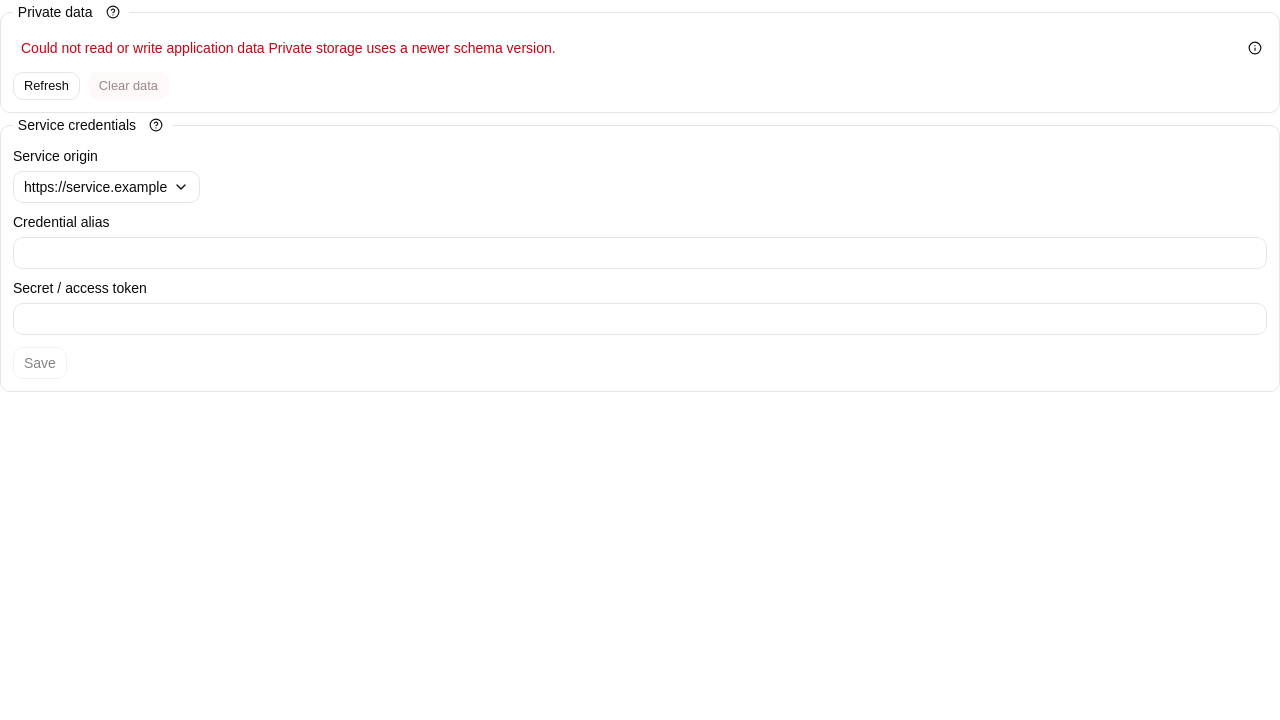
Test case: settles an initial storage failure and keeps refresh available without reporting endless loading
The image size is (1280, 720).
Expected: the message shows "Private storage uses a newer schema version.", [265,40,556,56]
Click the button named "View details" at (1255, 48), box [1243,36,1267,60]
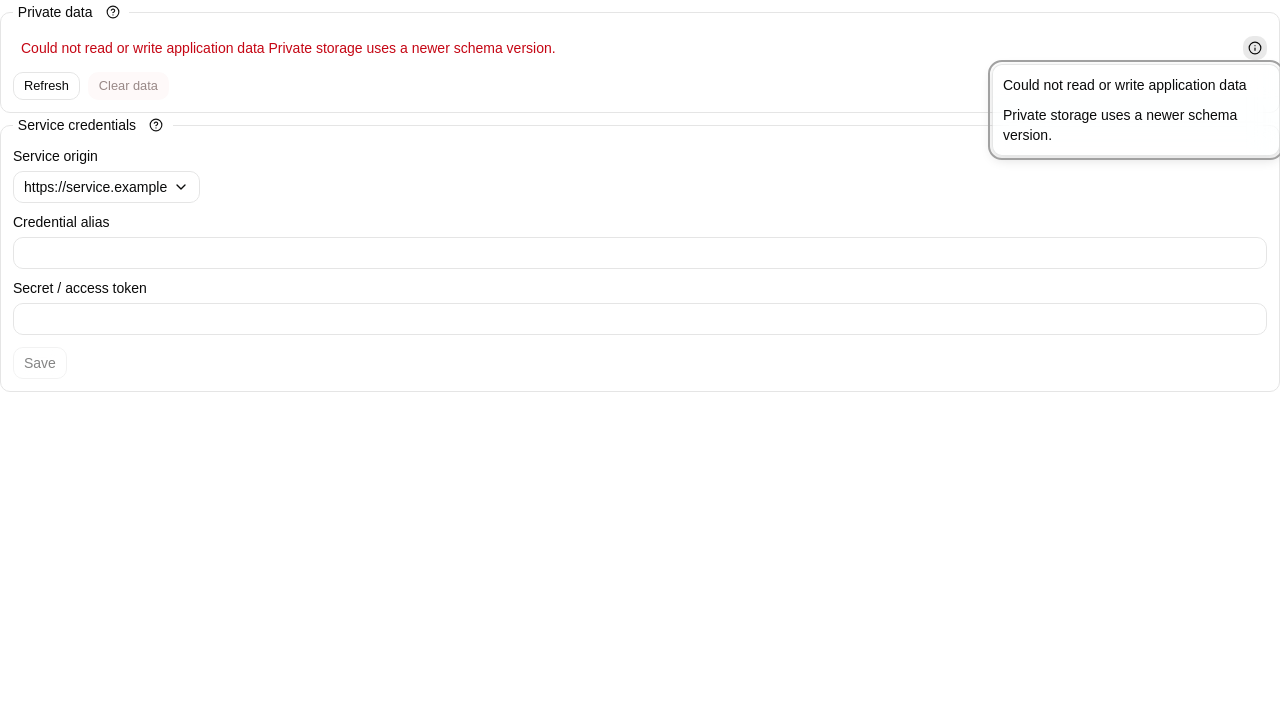
Expected: the dialog named "View details" shows "Private storage uses a newer schema version.", [1003,107,1241,143]
Press Escape in the dialog named "View details", box [992,64,1279,156]
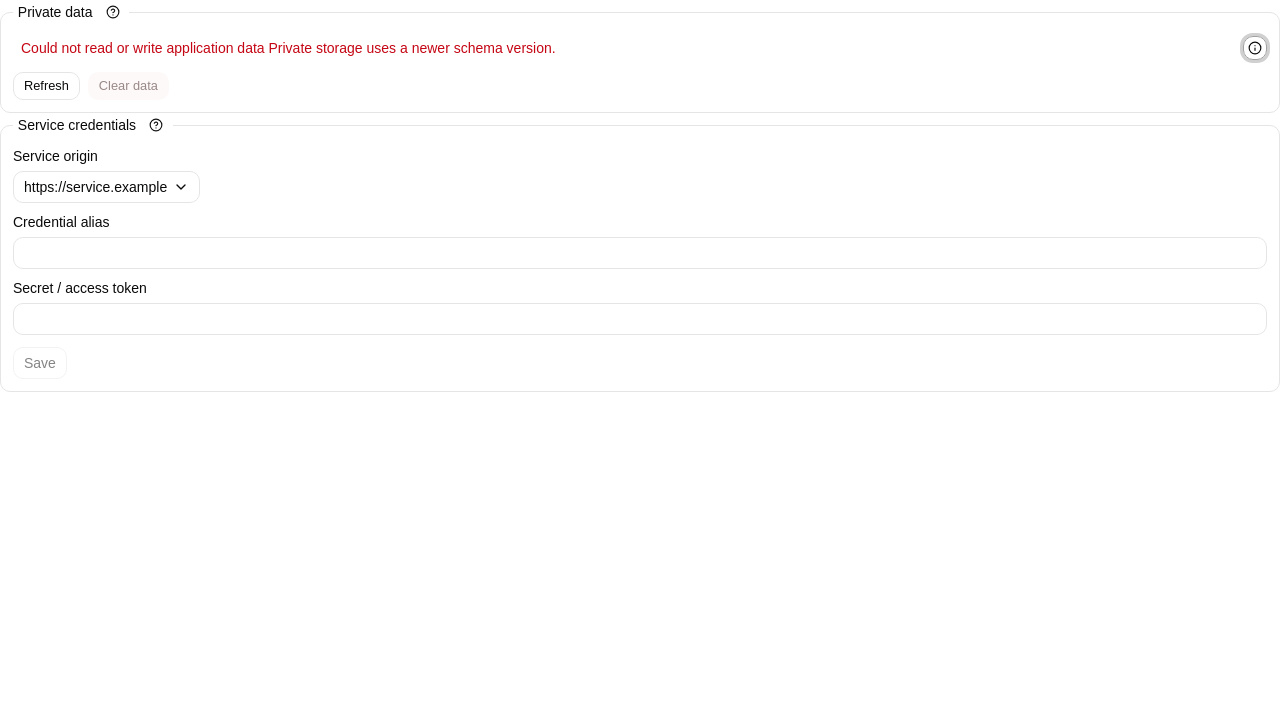
Click the button "Refresh" at (46, 86), box [13,72,80,100]
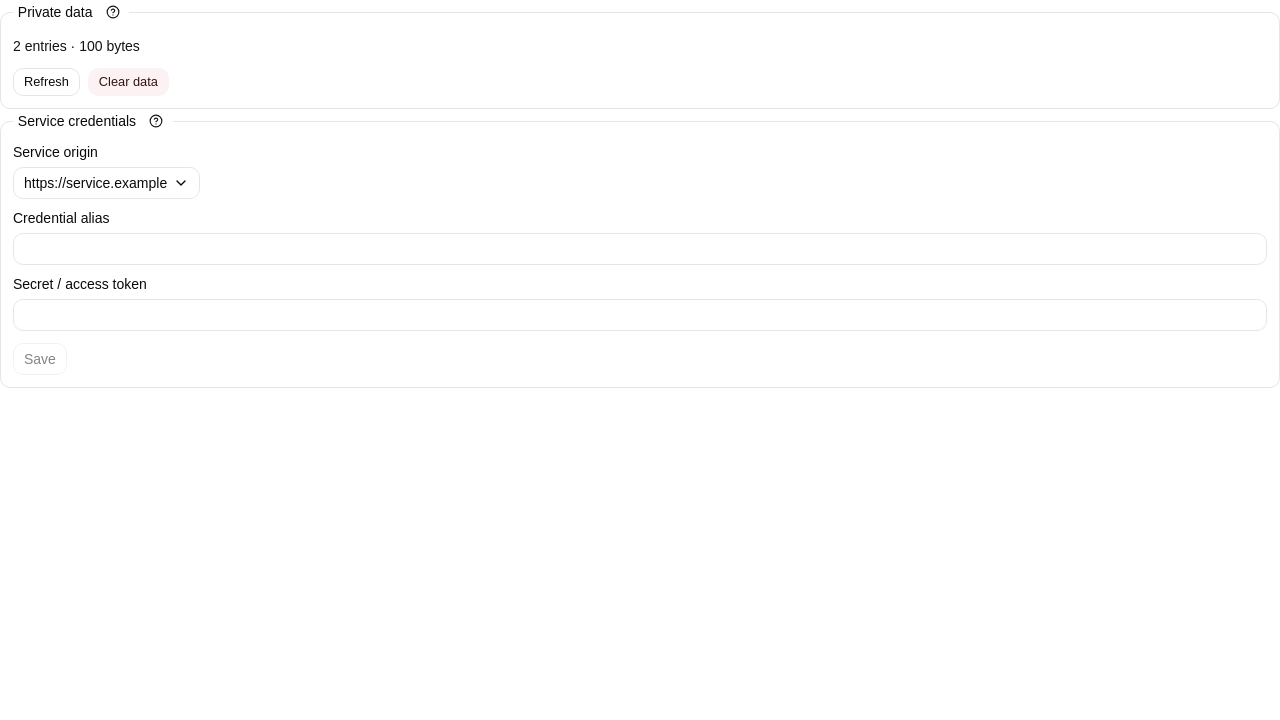
Focus the text "2 entries · 100 bytes" at (76, 46), box [13,36,140,56]
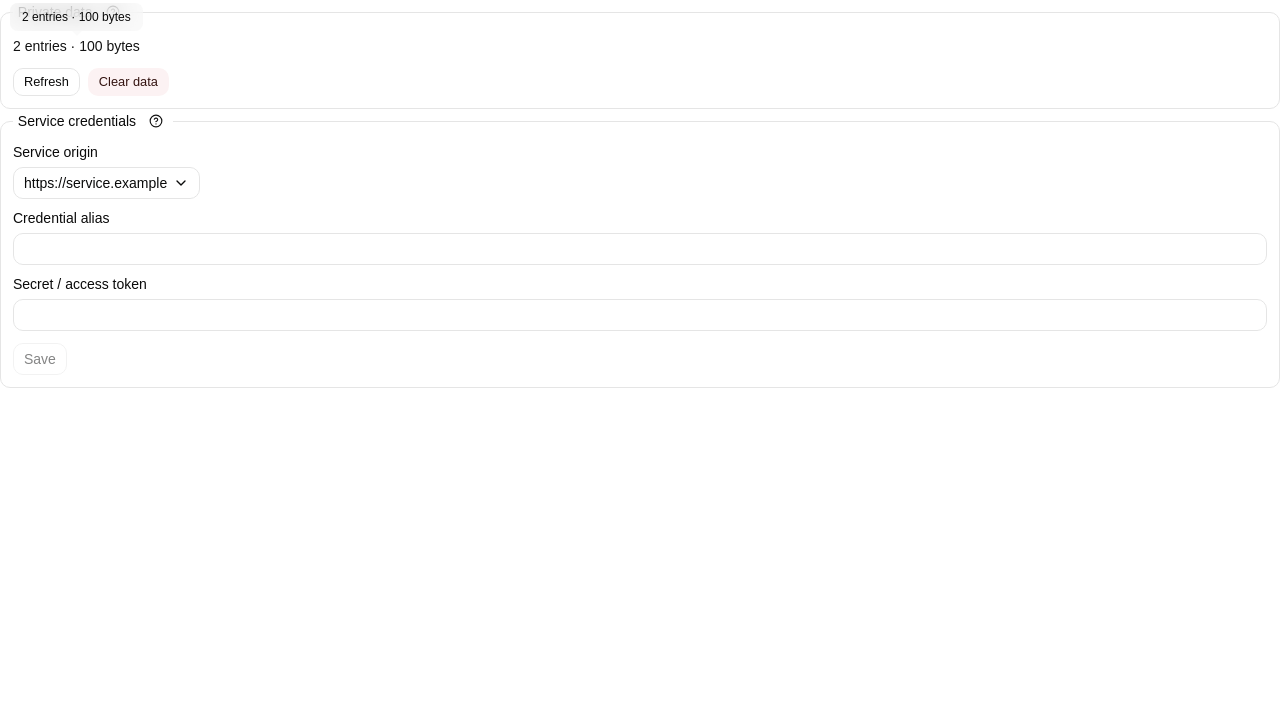
Expected: the tooltip reads "2 entries · 100 bytes", [22,10,131,24]
